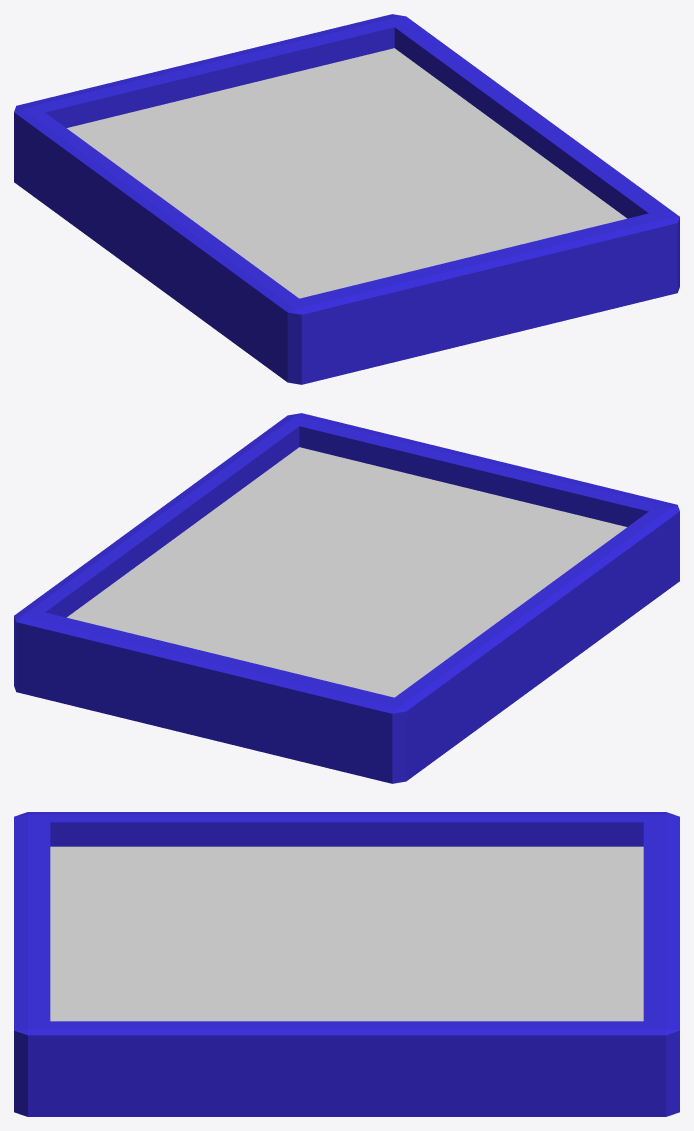
Rendered from chessboard3.gltf.
3 renders of one model, top to bottom at view 1: azimuth 30°, elevation 25°; view 2: azimuth 150°, elevation 25°; view 3: azimuth 270°, elevation 25°, orthographic. The views are drawn at different scales.
Parts seen in each view (by area): view 1: Cube; view 2: Cube; view 3: Cube.
Part boxes in pixels (x1,y1,x2,y2): Cube: (14, 14, 679, 384); Cube: (14, 413, 679, 783); Cube: (14, 812, 679, 1116).
Size of the model in its own units: 58.72 by 10.45 by 74.02.
